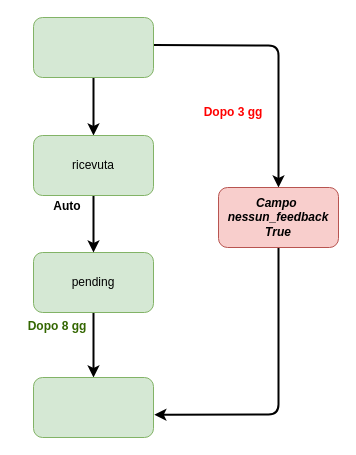
This 356x455 diagram has some shape labels left out. Each missing label, with the centre of its shape:
inviata: point (93, 47)
sollecito: point (93, 407)
